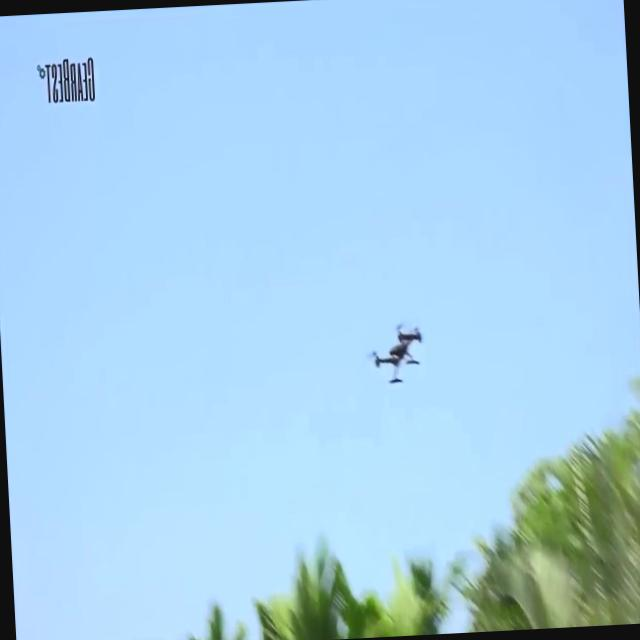drone: (365, 321, 428, 390)
